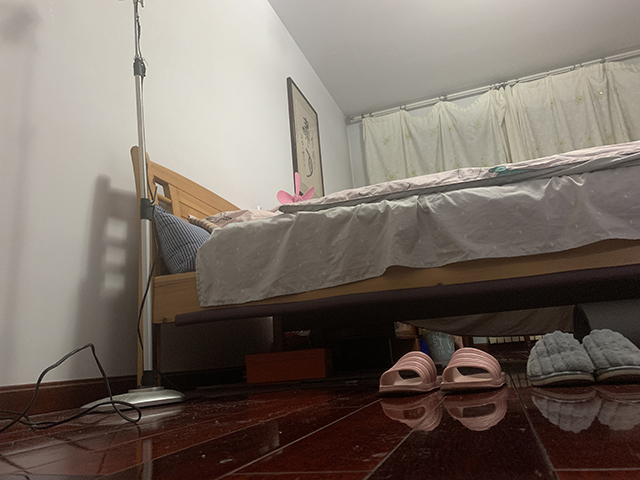bed: (128, 140, 640, 391)
slippers: (526, 331, 594, 386), (444, 345, 507, 394), (381, 348, 444, 397), (581, 328, 639, 381)
trashcan: (424, 331, 456, 365)
wire: (1, 339, 140, 438)
